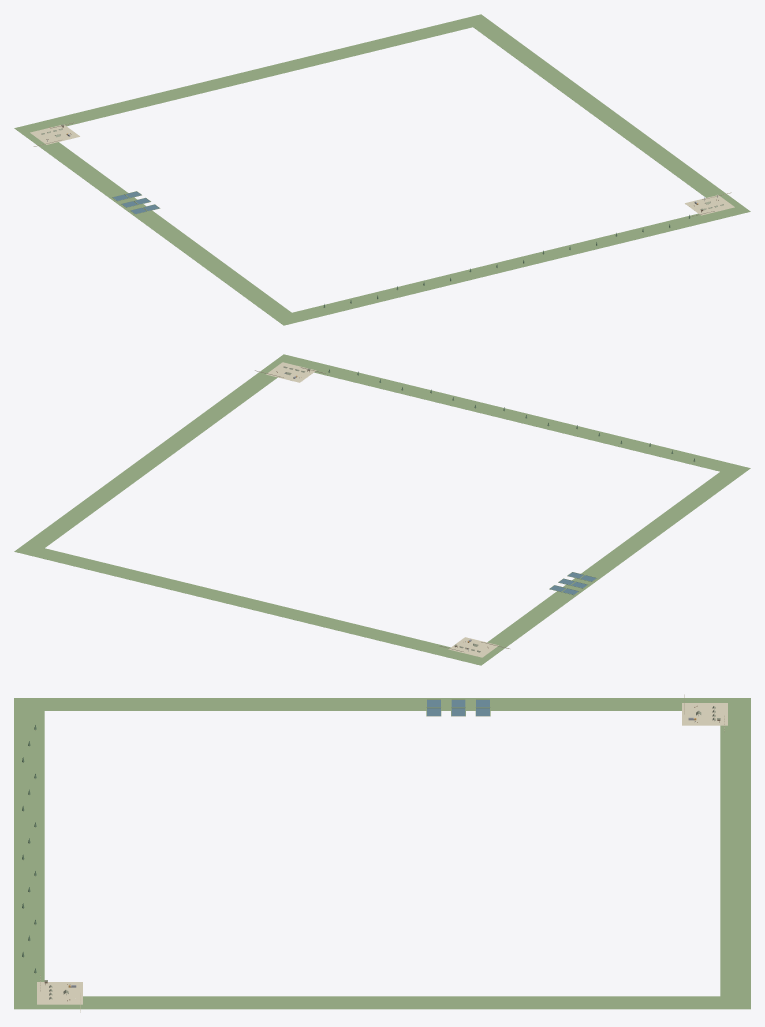
Rendered from zone_10.glb.
The picture shows the model from 3 angles, top to bottom: view 1: azimuth 30°, elevation 25°; view 2: azimuth 150°, elevation 25°; view 3: azimuth 270°, elevation 25°; orthographic projection. The views are drawn at different scales.
Parts seen in each view (by area): view 1: zone_akitsu_z10; view 2: zone_akitsu_z10; view 3: zone_akitsu_z10.
Boxes of the visible parts, x1=… form: zone_akitsu_z10: x1=14, y1=14, x2=750, y2=325; zone_akitsu_z10: x1=14, y1=354, x2=750, y2=665; zone_akitsu_z10: x1=14, y1=694, x2=750, y2=1012.
Size of the model in its own units: 980 by 8.4 by 960.
